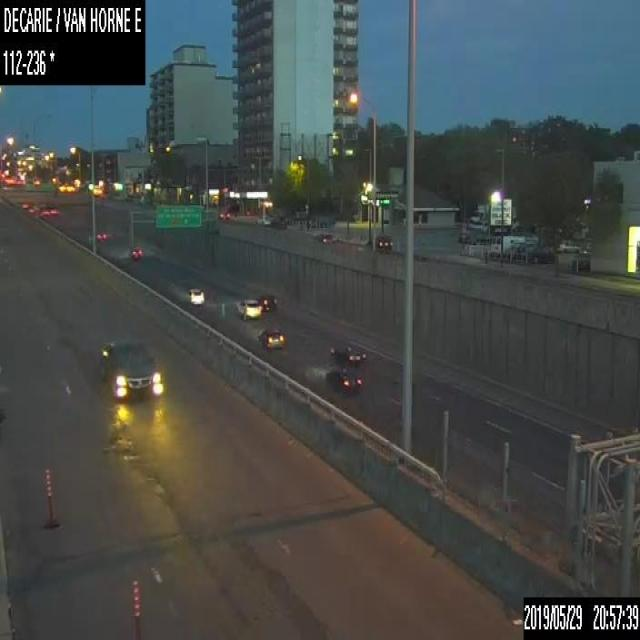construction: (44, 468, 57, 528), (130, 580, 141, 639)
vehicle: (96, 337, 166, 400), (323, 363, 365, 393), (330, 343, 365, 366), (253, 325, 286, 348), (492, 234, 524, 257), (523, 245, 558, 263), (234, 298, 261, 318), (572, 251, 590, 270), (187, 286, 204, 306), (257, 294, 276, 311), (374, 232, 392, 247), (557, 241, 579, 252), (314, 232, 333, 242), (129, 244, 141, 259), (96, 228, 108, 241), (217, 210, 229, 218)
